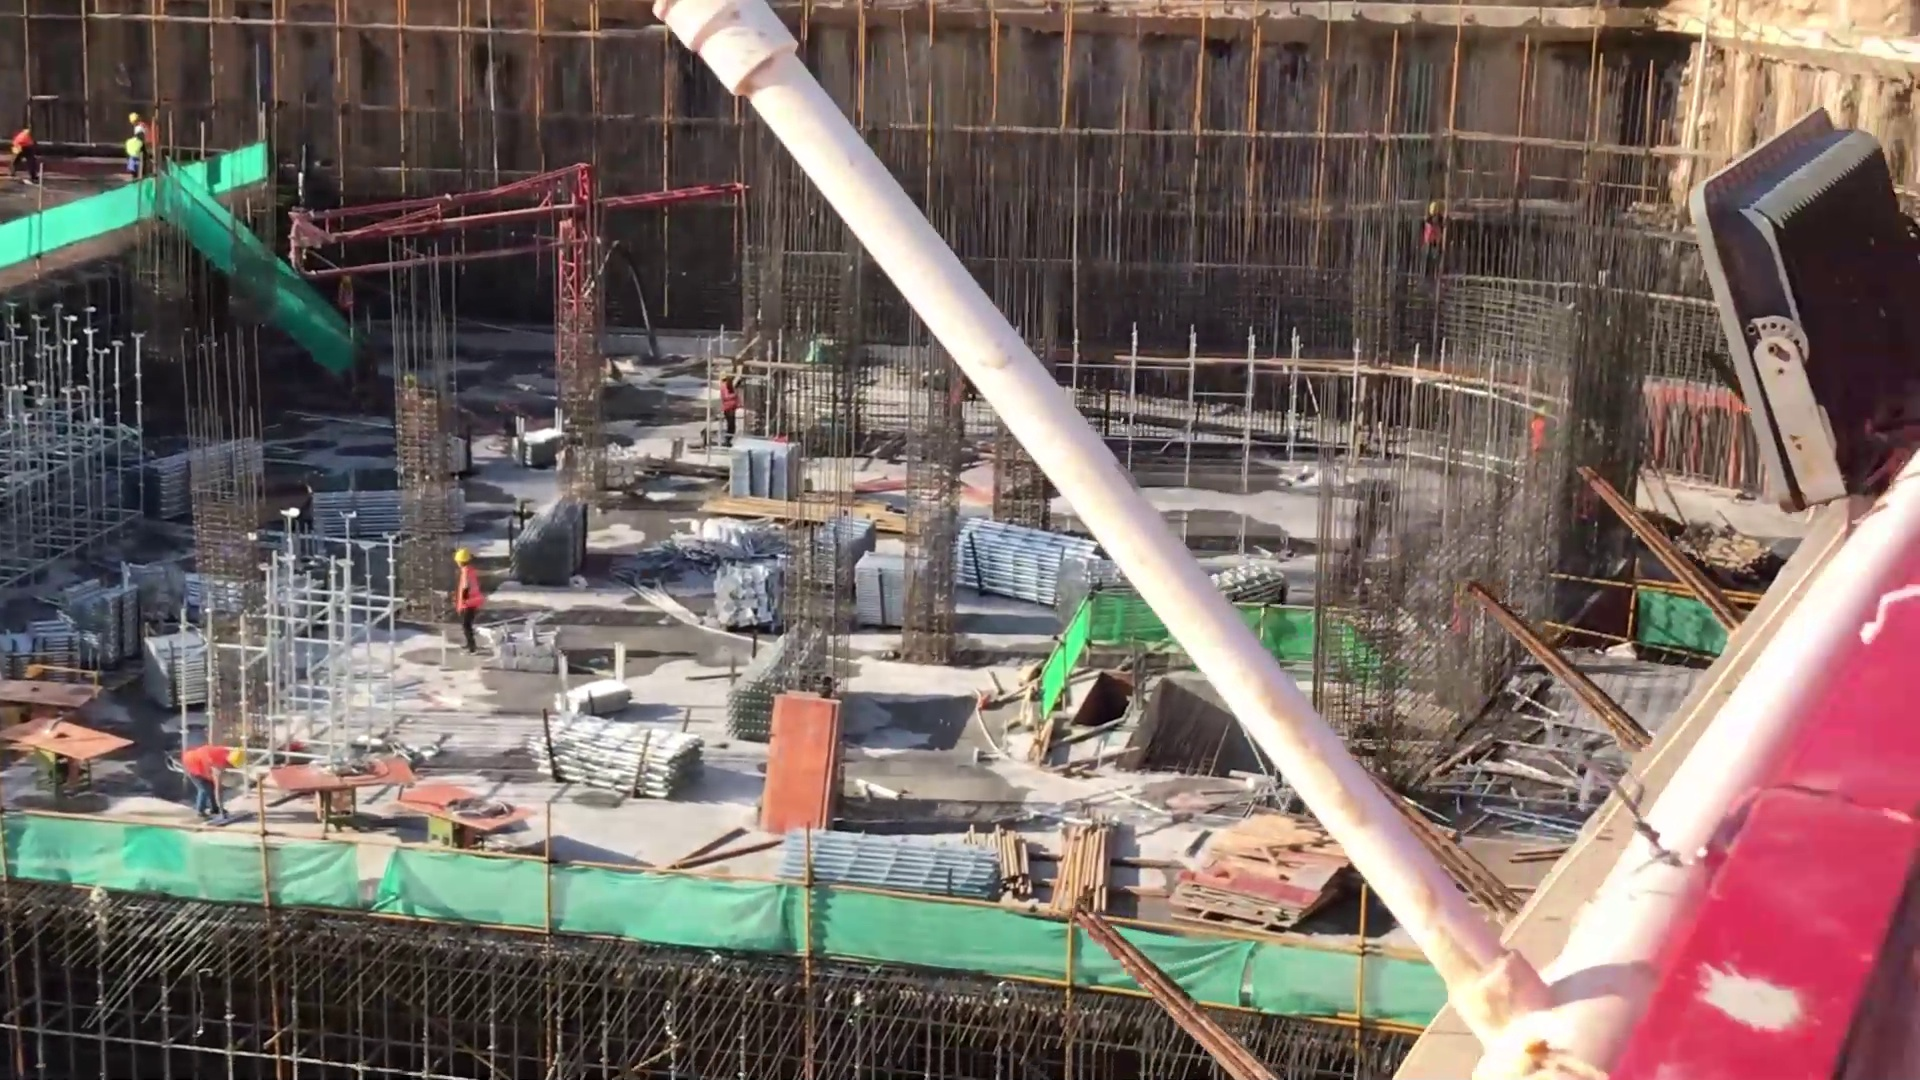board: (1177, 835, 1323, 937), (1, 655, 118, 775), (760, 683, 841, 838)
helmet: (210, 736, 249, 777), (446, 546, 478, 569), (715, 362, 733, 384), (126, 112, 143, 127)
person: (172, 737, 250, 831), (435, 539, 490, 652), (704, 369, 746, 447), (3, 126, 44, 186), (121, 109, 156, 157), (123, 127, 151, 181)
scaffold: (525, 683, 712, 824), (770, 827, 1011, 908), (943, 502, 1115, 602), (501, 482, 601, 589), (81, 586, 155, 648)
vest: (184, 747, 233, 787), (455, 572, 483, 616), (718, 383, 737, 407)
wood: (267, 749, 536, 863), (696, 479, 914, 550), (1056, 826, 1119, 922), (989, 824, 1032, 908)
